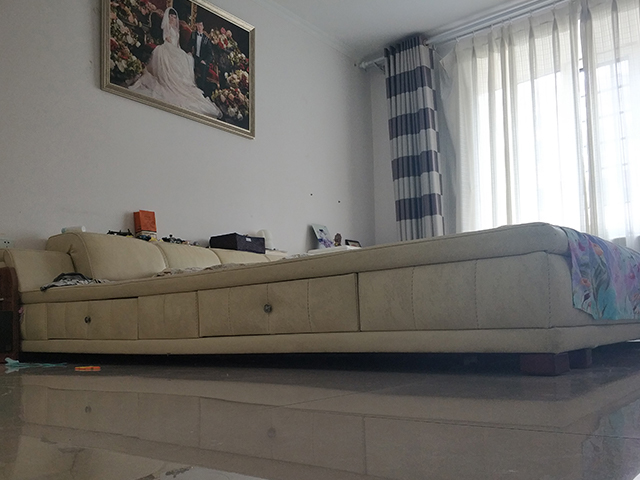bed: (1, 219, 640, 378)
curtain: (444, 2, 640, 241), (381, 34, 447, 235)
